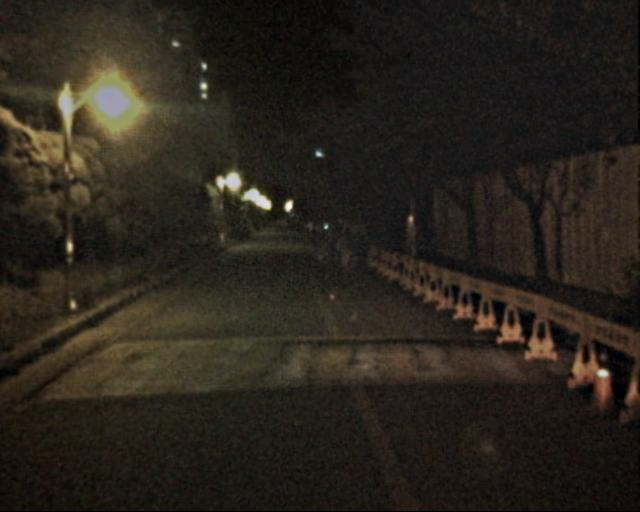person: (343, 219, 365, 275), (309, 221, 326, 262), (323, 223, 339, 263)
